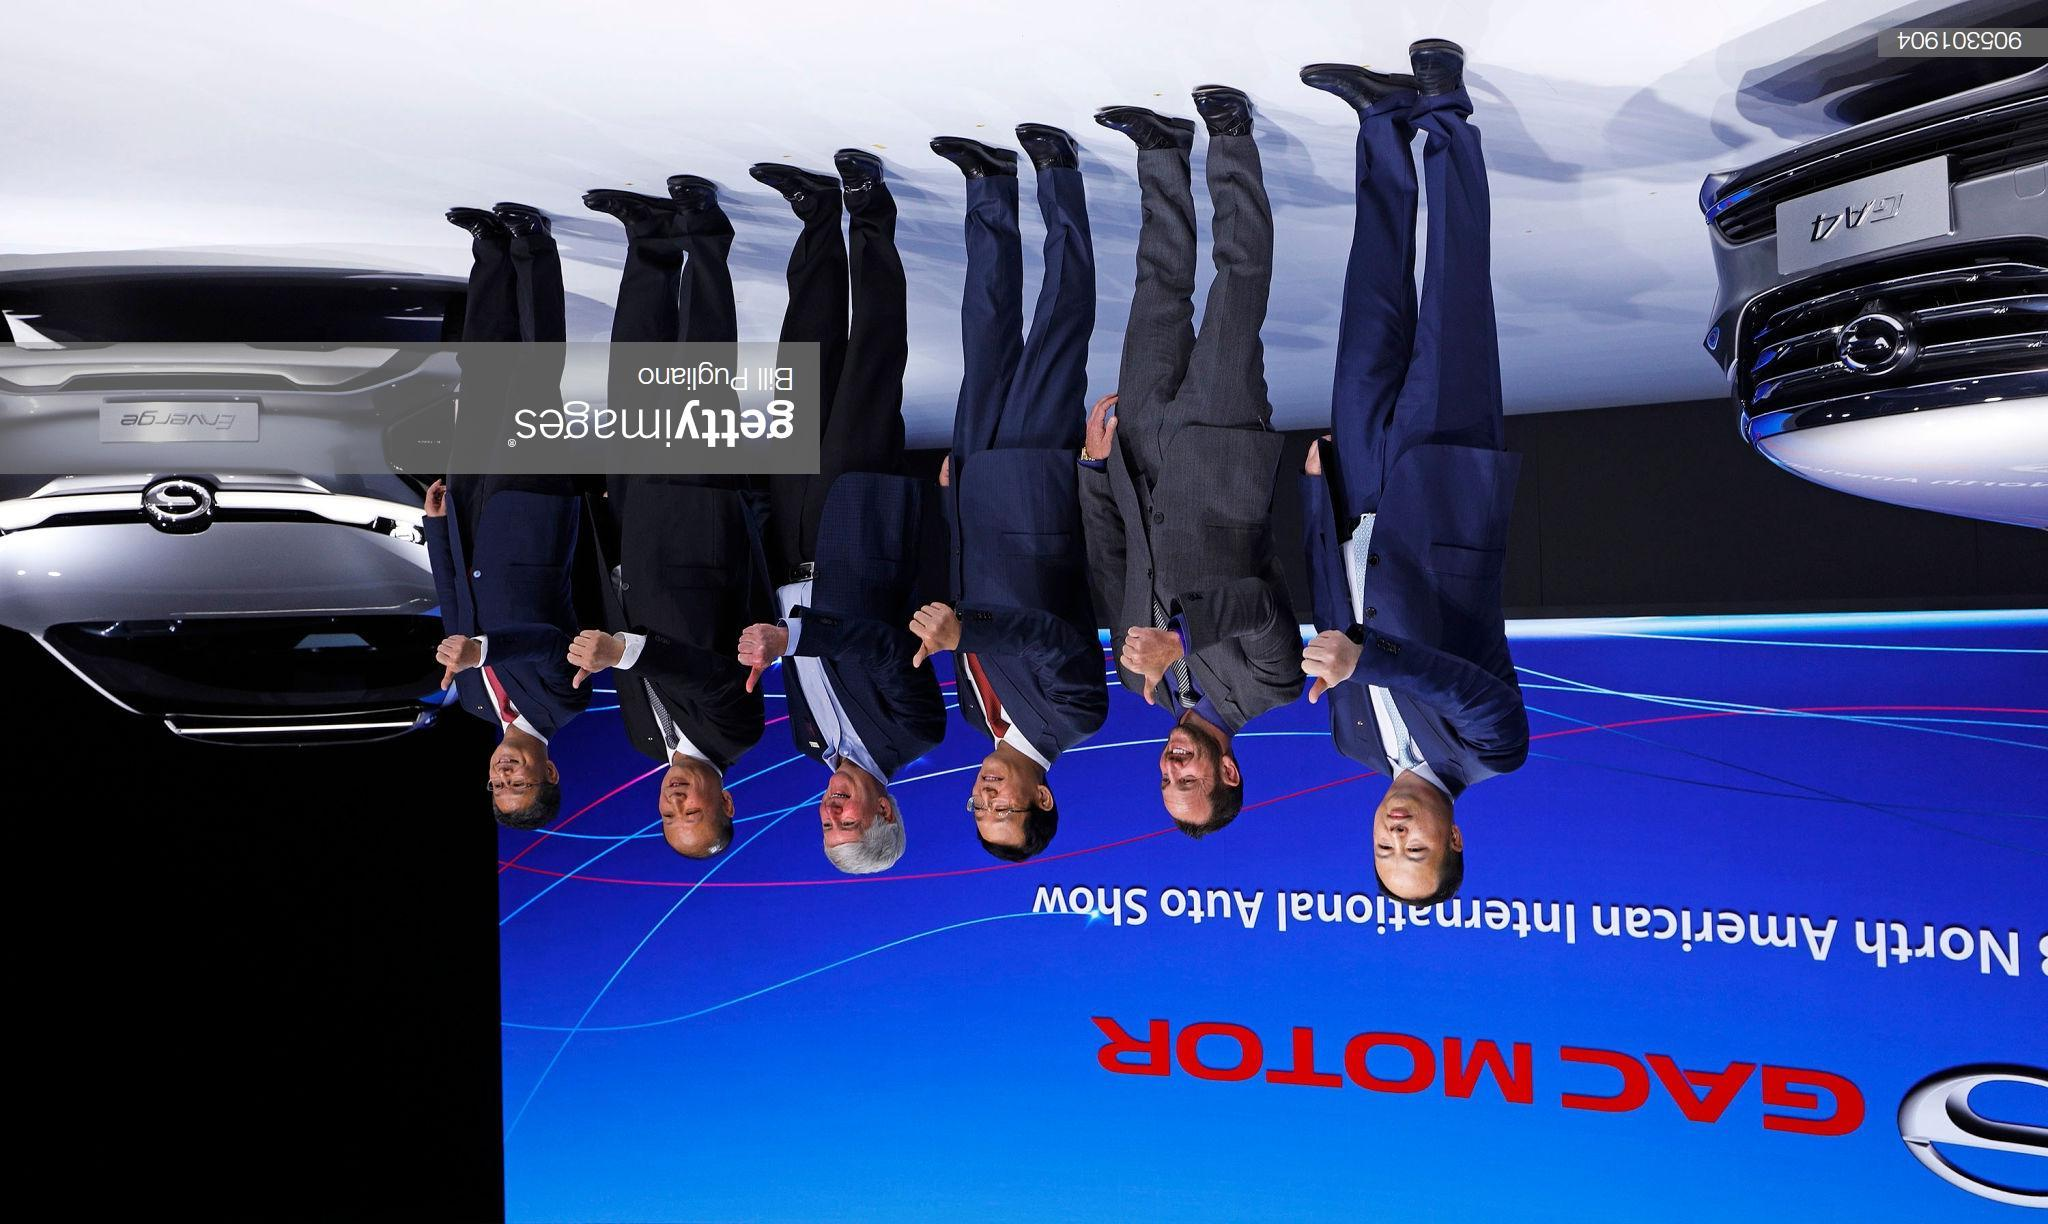thumbsdown: (1299, 629, 1342, 707), (1119, 627, 1157, 707), (909, 602, 950, 667), (737, 624, 771, 695), (567, 629, 602, 691), (436, 635, 469, 692)
